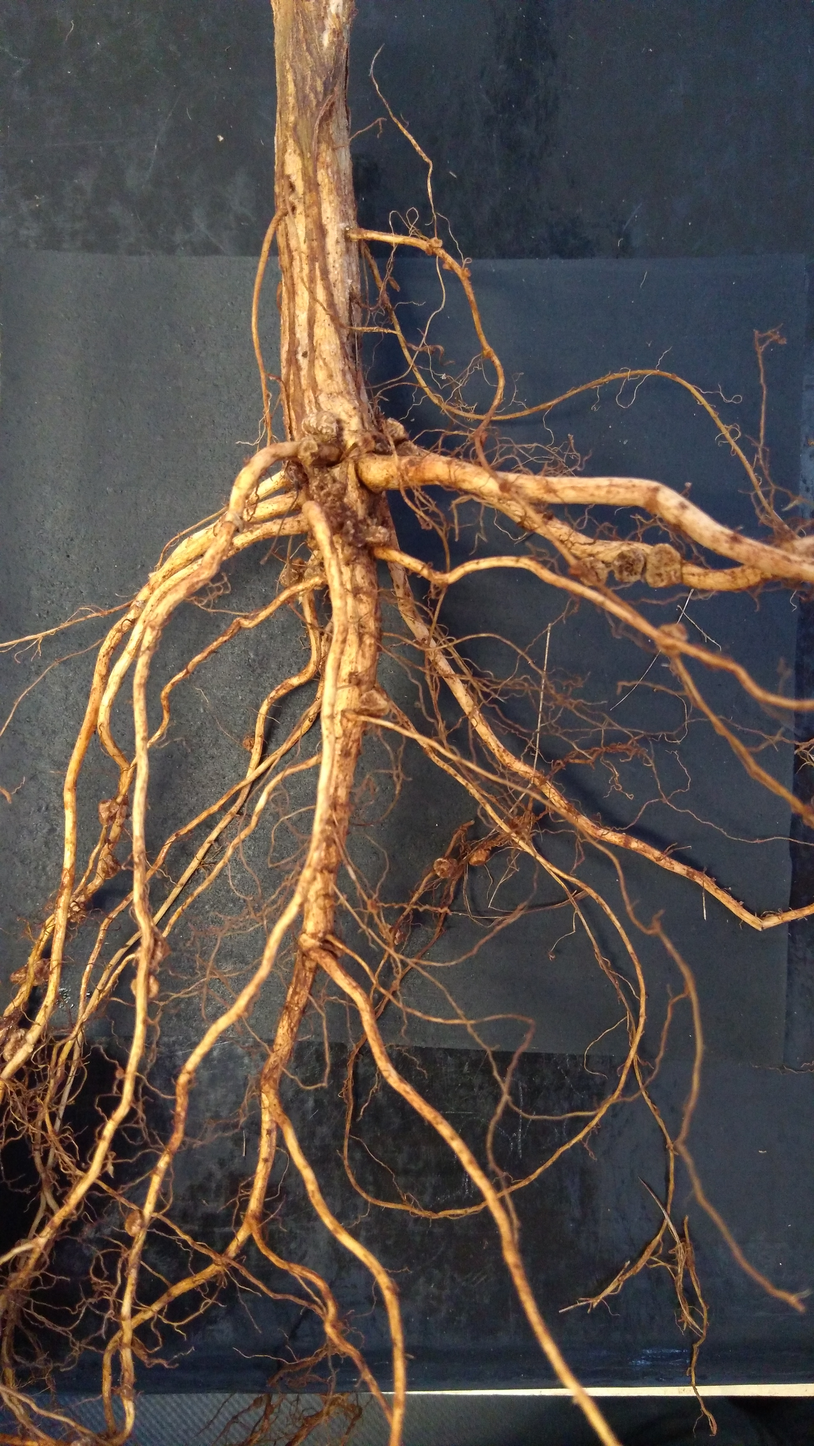nodule: (640, 536, 687, 601), (646, 614, 698, 664), (608, 542, 648, 589), (568, 548, 613, 588), (296, 406, 341, 440), (97, 789, 127, 833), (358, 686, 394, 721), (2, 1025, 32, 1063), (295, 436, 326, 470), (129, 974, 164, 1003), (122, 1208, 148, 1244), (300, 563, 330, 594), (364, 523, 397, 550), (382, 414, 410, 444), (394, 436, 424, 461), (432, 856, 462, 881), (32, 957, 53, 990), (5, 964, 30, 991), (276, 565, 299, 591), (101, 848, 120, 878), (380, 922, 403, 945), (468, 846, 490, 868), (240, 735, 258, 753), (429, 234, 445, 249), (480, 345, 495, 360), (365, 899, 379, 915), (424, 244, 435, 260), (441, 259, 453, 273), (461, 265, 473, 278), (114, 1067, 124, 1079)
